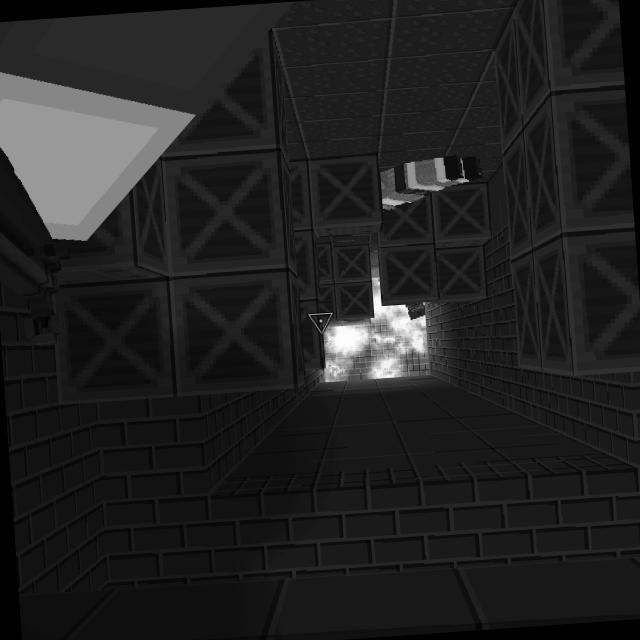enemy: (405, 302, 426, 320)
